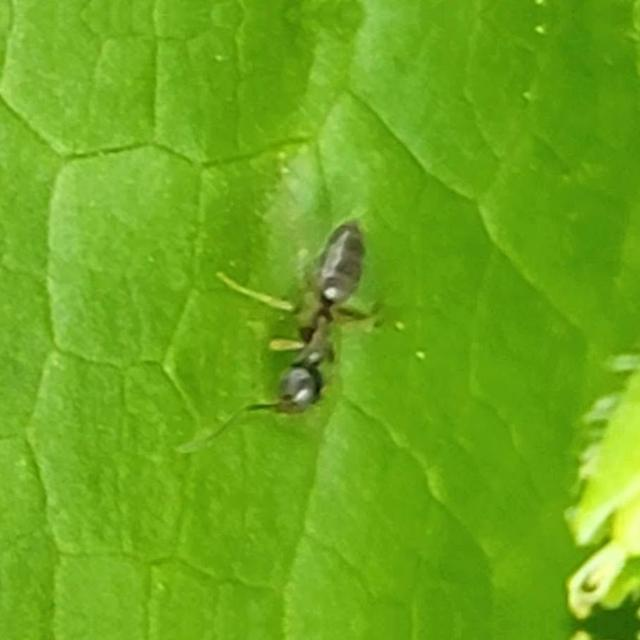Tapinoma: (235, 200, 403, 446)
